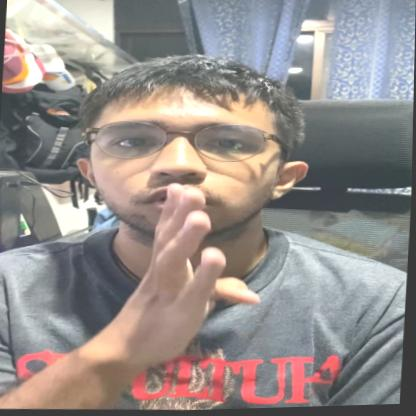Talk: (49, 42, 389, 406)
